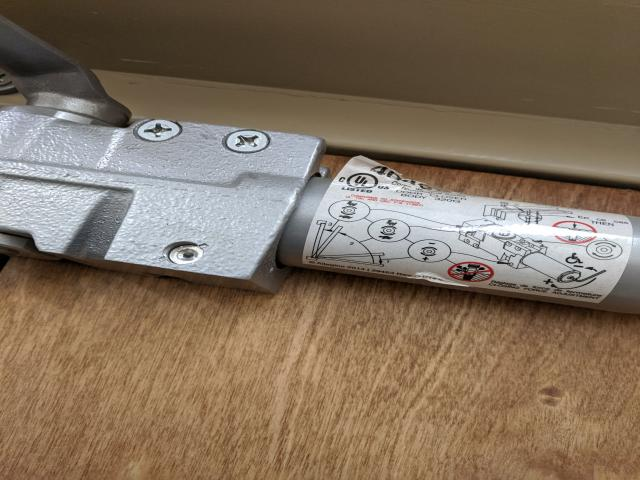CRS: (224, 130, 269, 153), (136, 121, 182, 140)
